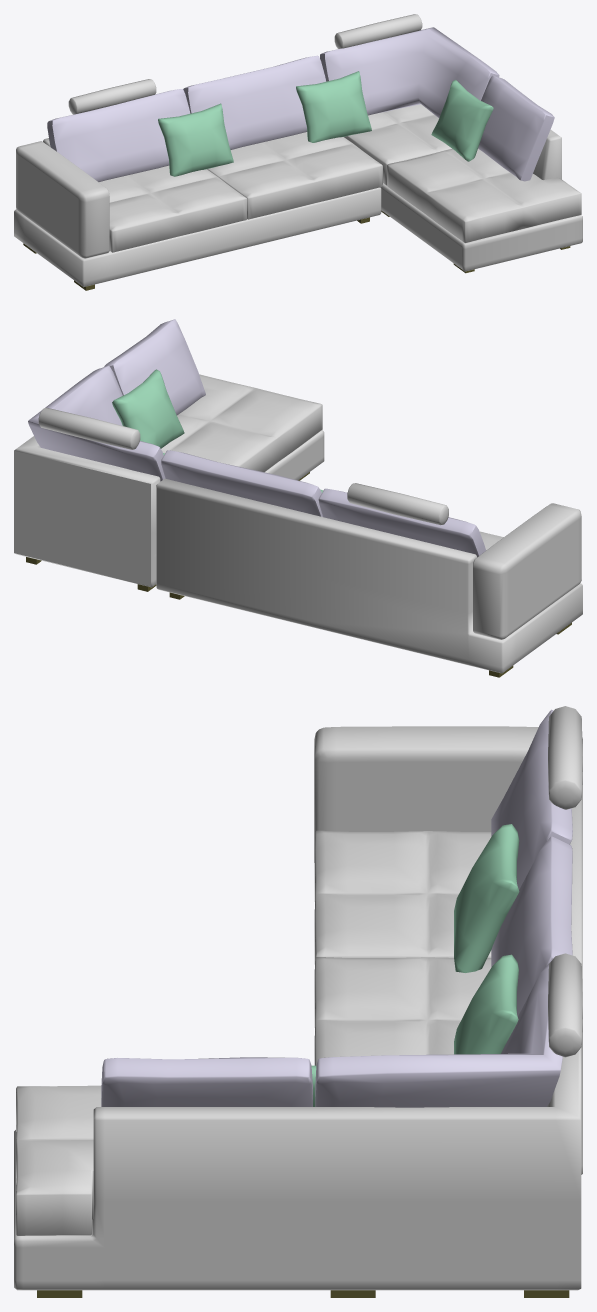
Rendered from GJSF707.FBX.
3 renders of one model, top to bottom at view 1: azimuth 30°, elevation 25°; view 2: azimuth 150°, elevation 25°; view 3: azimuth 270°, elevation 25°, orthographic. The views are drawn at different scales.
Parts seen in each view (by area): view 1: GJSF707; view 2: GJSF707; view 3: GJSF707.
Boxes of the visible parts, <box> form: GJSF707: <box>14,14,582,290</box>; GJSF707: <box>14,319,582,677</box>; GJSF707: <box>14,706,582,1297</box>.
Bounding box in the file's own units: 305 × 187 × 94.
